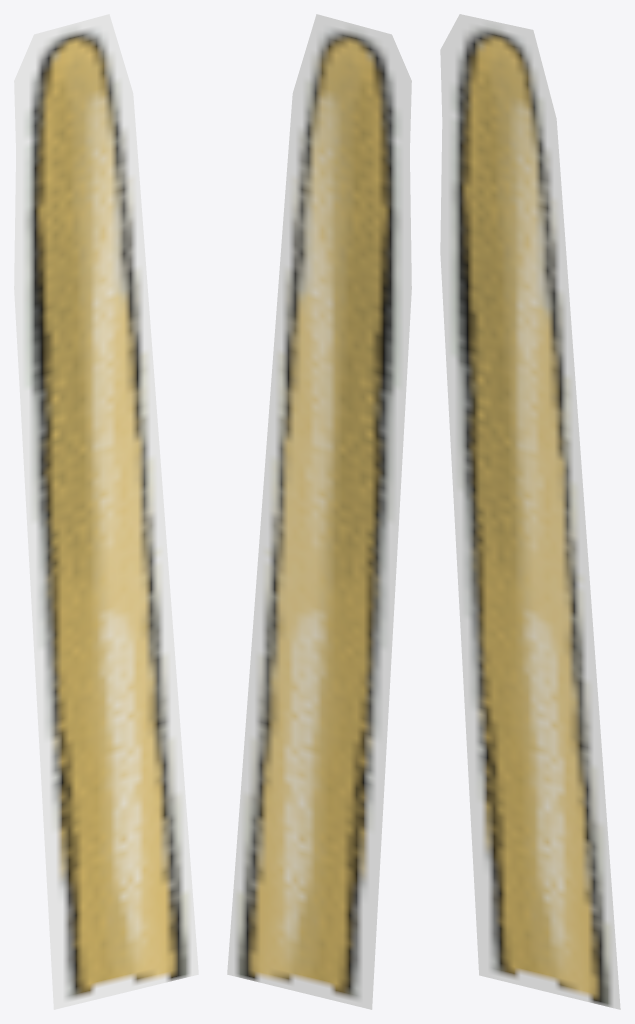
3 renders of one model, left to right at view 1: azimuth 30°, elevation 25°; view 2: azimuth 150°, elevation 25°; view 3: azimuth 330°, elevation 25°, orthographic. The views are drawn at different scales.
Parts seen in each view (by area): view 1: Plane; view 2: Plane; view 3: Plane.
Part boxes in pixels (x1,y1,x2,y2): Plane: (14, 14, 198, 1009); Plane: (227, 14, 411, 1009); Plane: (440, 14, 620, 1009).
Bounding box in the file's own units: 0.5416 × 2.75 × 0.
Materials: 1 (1 with a texture image).
